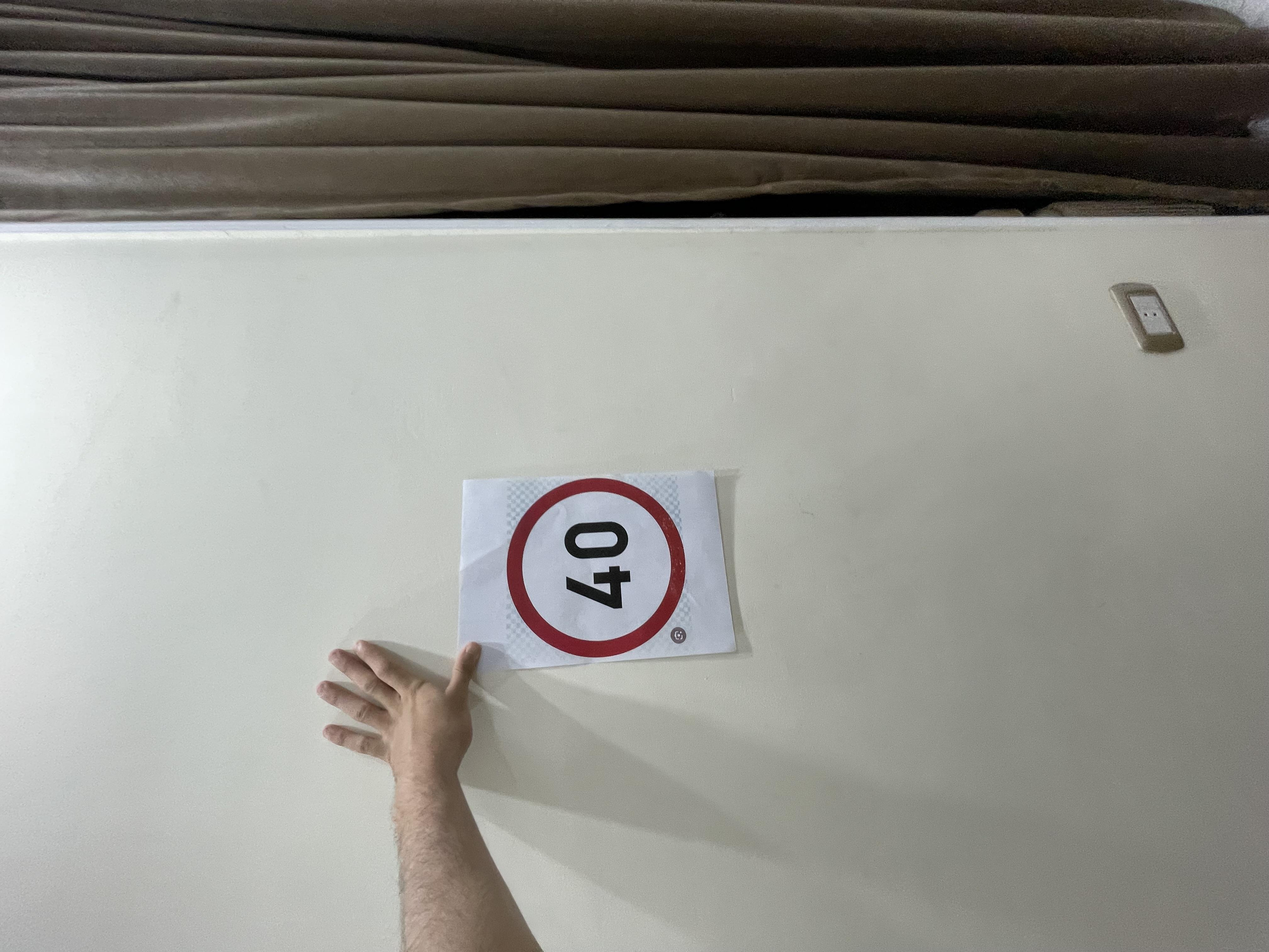40-Speed: (395, 378, 632, 513)
